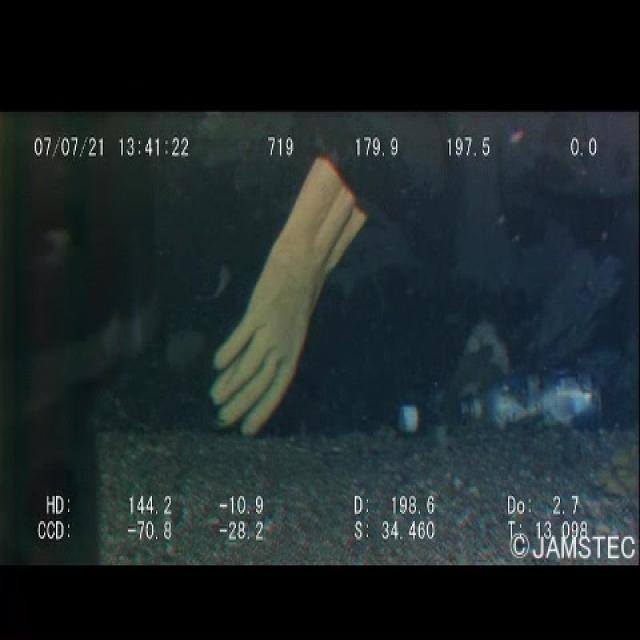plastic: (392, 377, 468, 455)
